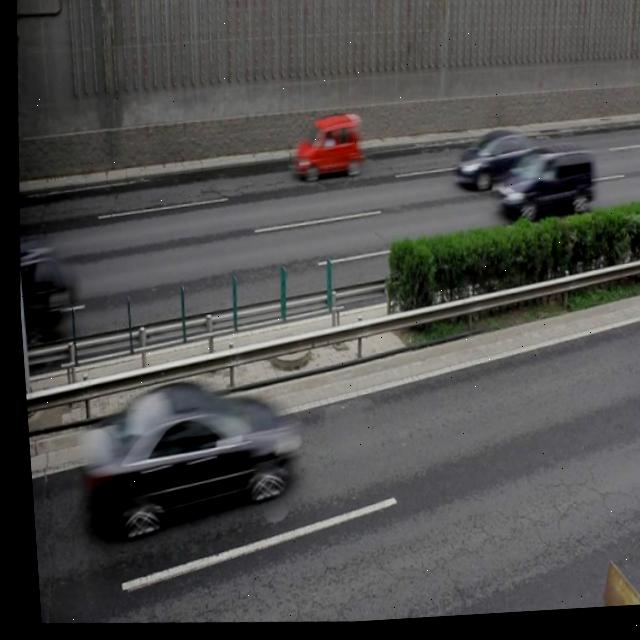car: (87, 373, 297, 541), (448, 133, 549, 204), (286, 115, 362, 188)
truck: (488, 150, 594, 234)
